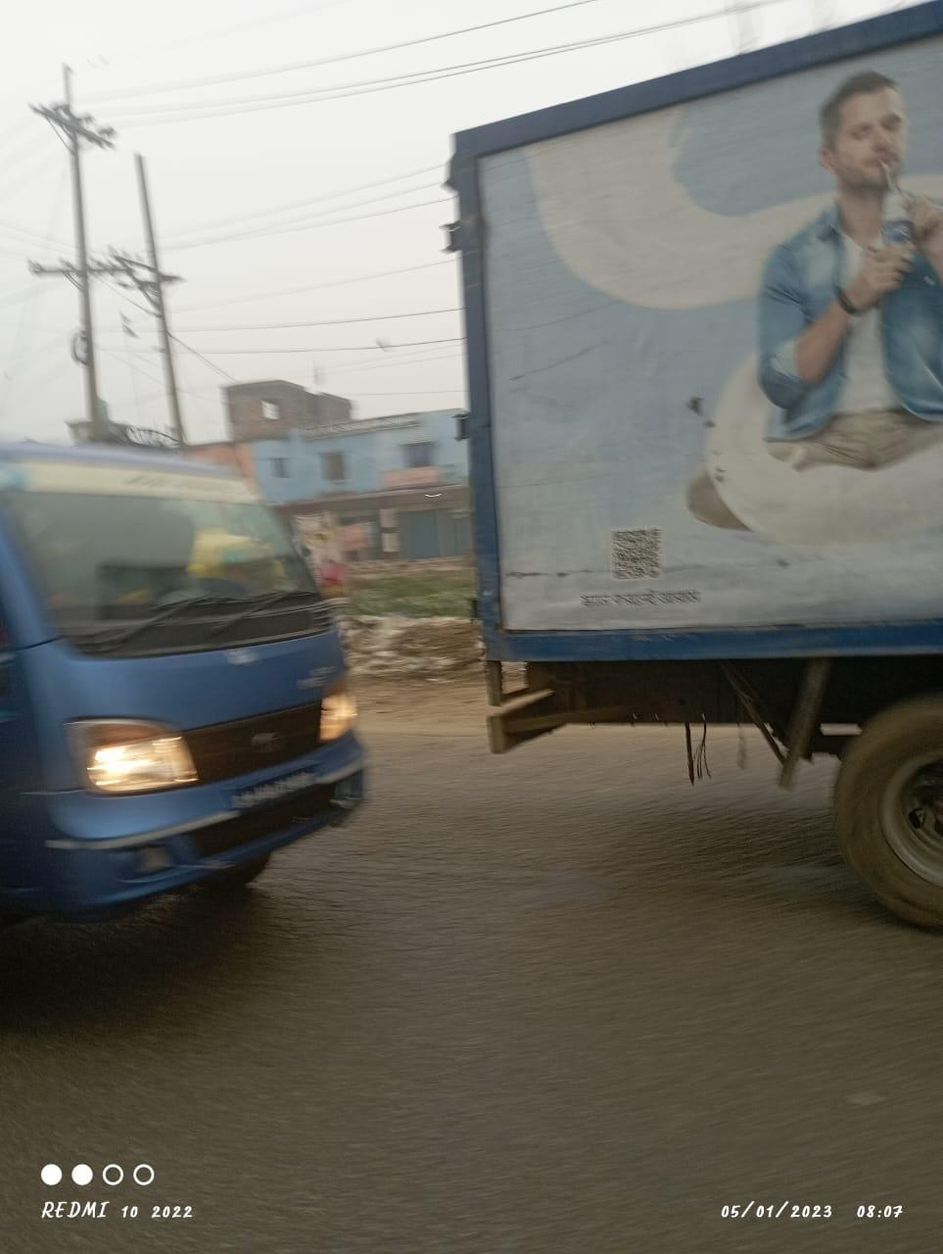Truck: (447, 1, 941, 932), (2, 419, 390, 944)
